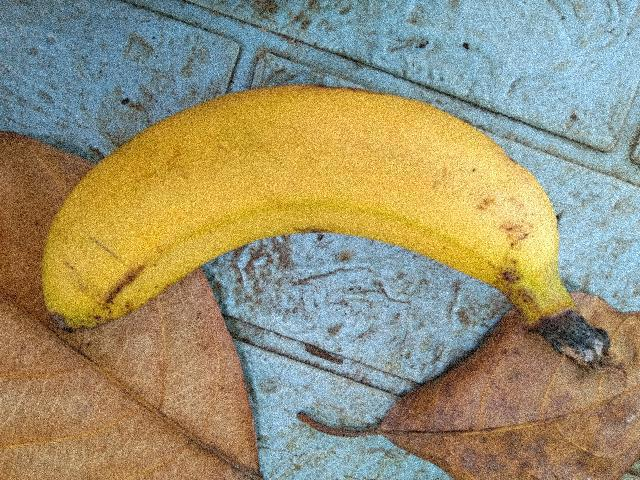freshripe: (27, 73, 600, 346)
